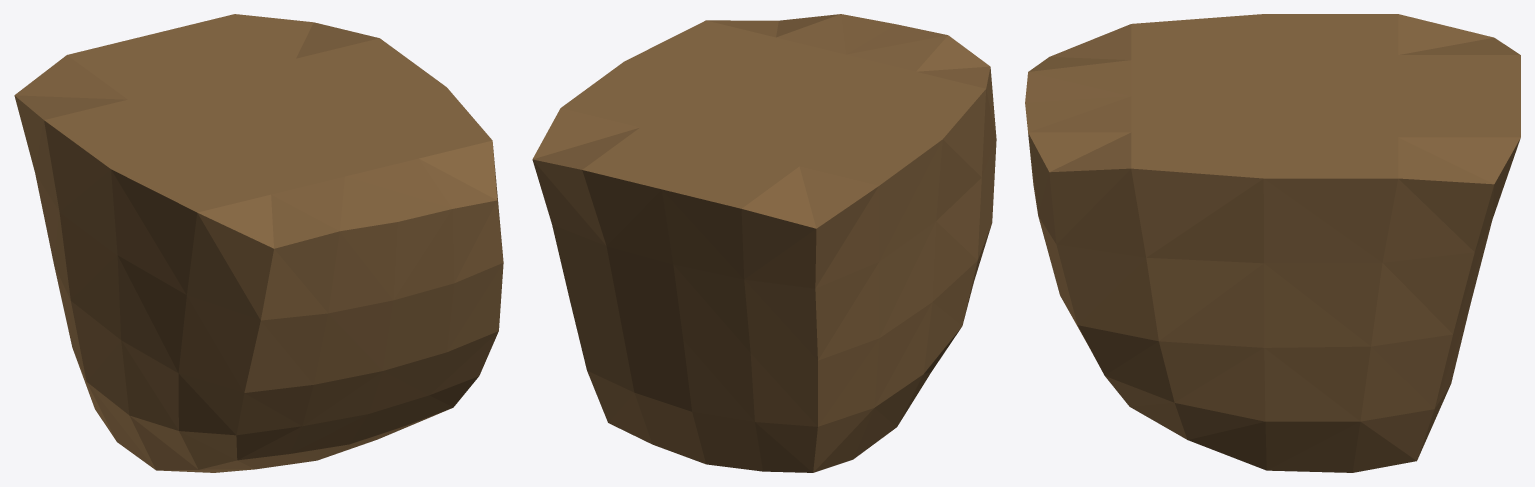
Rendered from LeftFingerJoint53y_joint_visu.dae.
3 renders of one model, left to right at view 1: azimuth 30°, elevation 25°; view 2: azimuth 150°, elevation 25°; view 3: azimuth 270°, elevation 25°, orthographic. The views are drawn at different scales.
Parts seen in each view (by area): view 1: node; view 2: node; view 3: node.
Boxes of the visible parts, x1,y1,x2,y2 form: node: (14, 14, 503, 472); node: (532, 14, 996, 472); node: (1025, 14, 1520, 472).
Bounding box in the file's own units: 0.00871 × 0.00847 × 0.0111.
